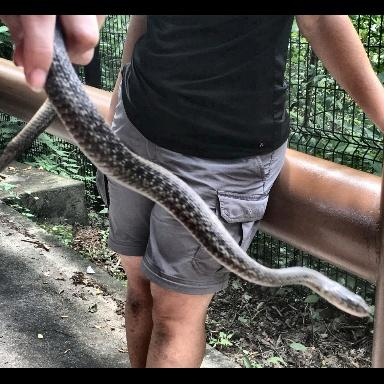snake: (12, 39, 384, 323)
